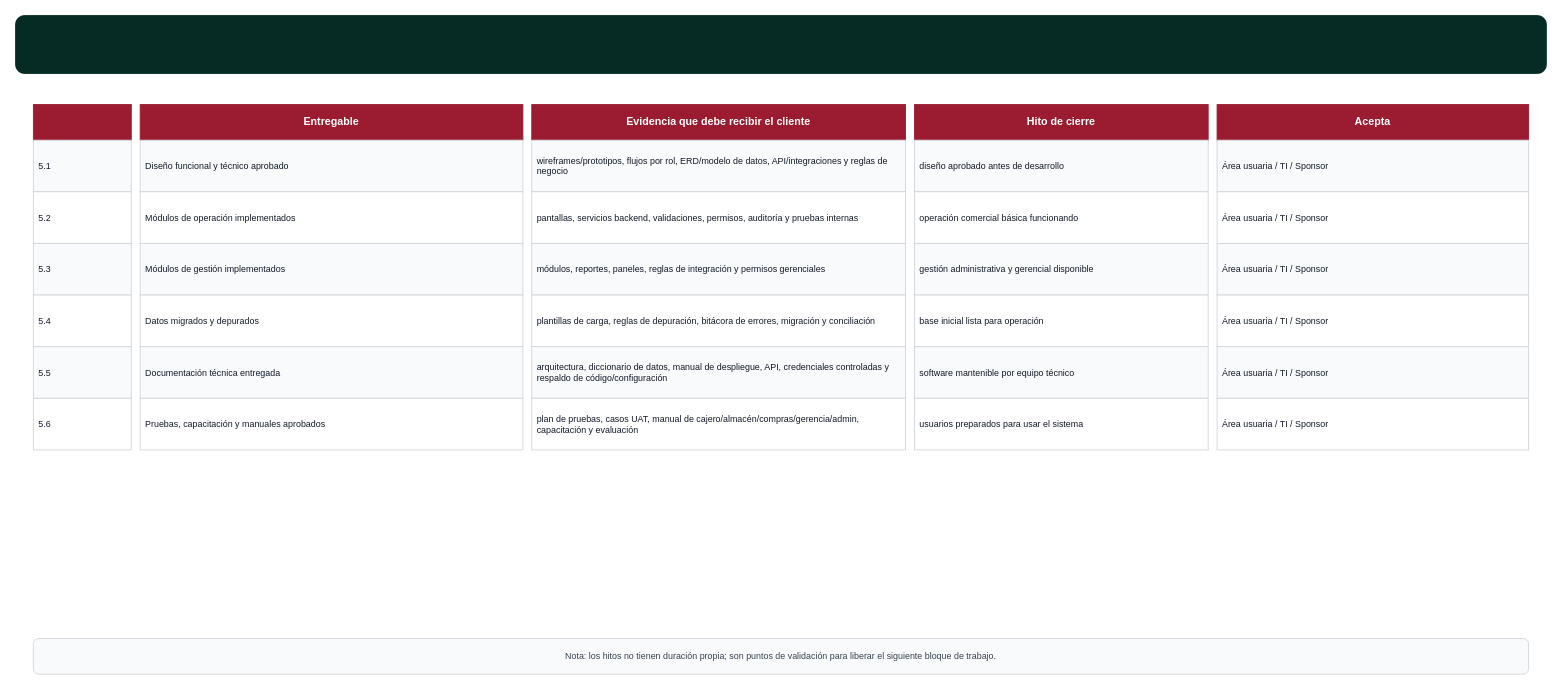
This 1562x690 diagram has some shape labels left out. The shapes that lost their labels are listed below. From the top down, each one's centre as x and y in pixels, then its label:
At (780,44): "5.0 SOFTWARE — Hitos, evidencias y aceptación".
At (81,122): "WBS".
